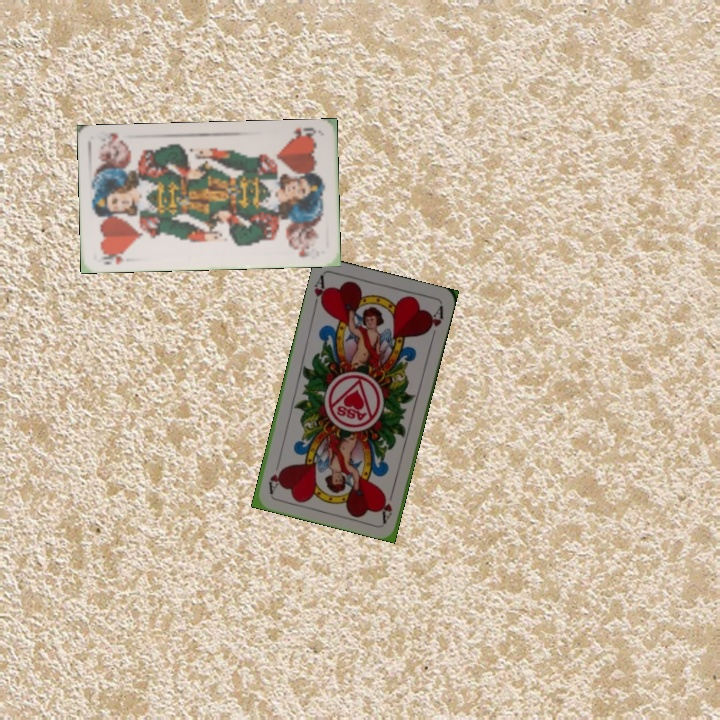HA: (309, 271, 330, 312), (378, 484, 397, 524)
HO: (95, 248, 129, 267), (287, 123, 319, 142)
